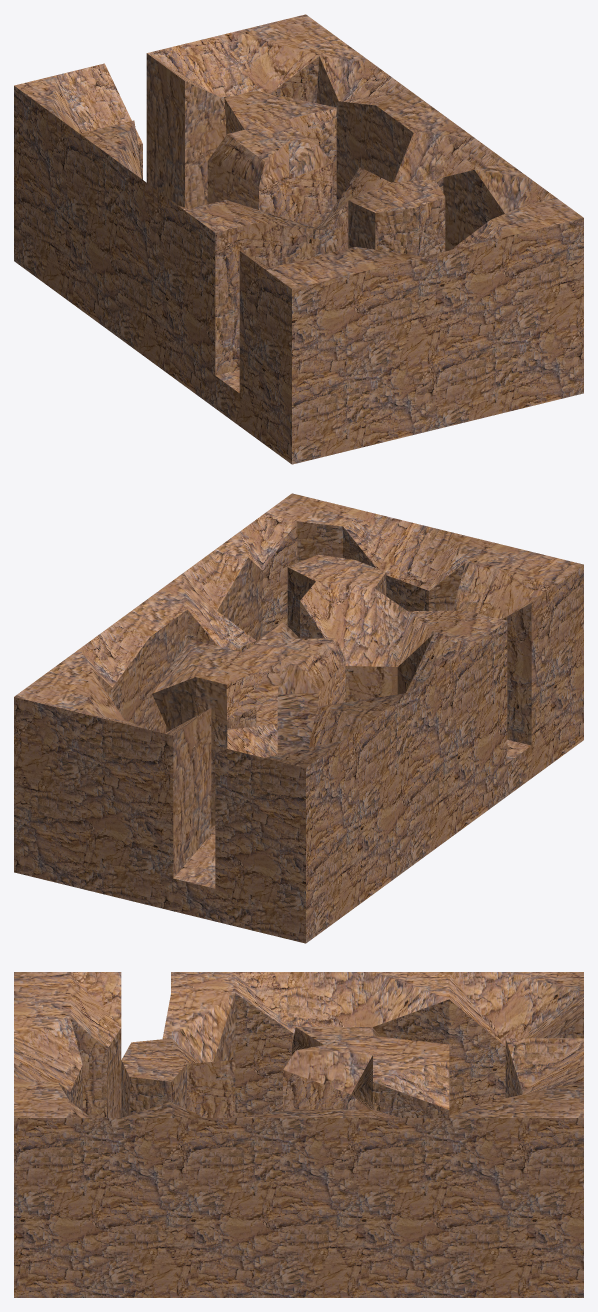
The model's file is Canyon5.fbx.
3 views of the same model, one above another, from view 1: azimuth 30°, elevation 25°; view 2: azimuth 150°, elevation 25°; view 3: azimuth 270°, elevation 25° (orthographic). The views are drawn at different scales.
Parts seen in each view (by area): view 1: Canyon5; view 2: Canyon5; view 3: Canyon5.
Boxes of the visible parts, x1,y1,x2,y2 form: Canyon5: (14,14,583,464); Canyon5: (14,493,583,943); Canyon5: (14,972,583,1297).
Size of what is drawn, in the model's own units: 21.83 by 12.78 by 36.02.
1 material, 1 textured.
